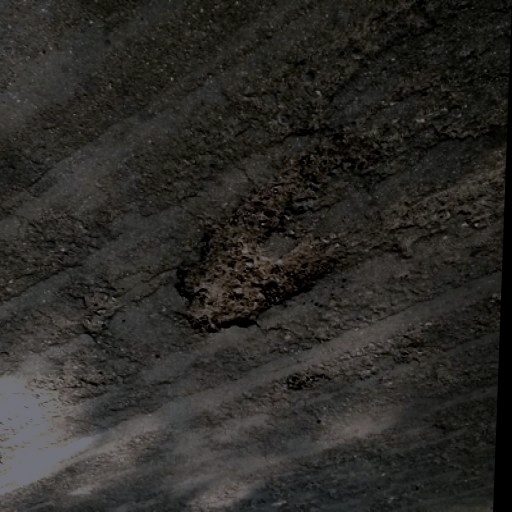pothole: (169, 165, 348, 338)
